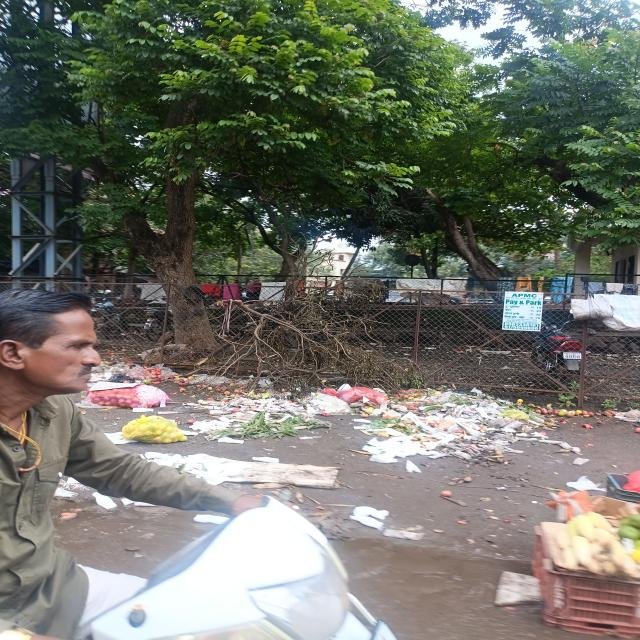garbage: (198, 388, 532, 453), (96, 362, 232, 441)
